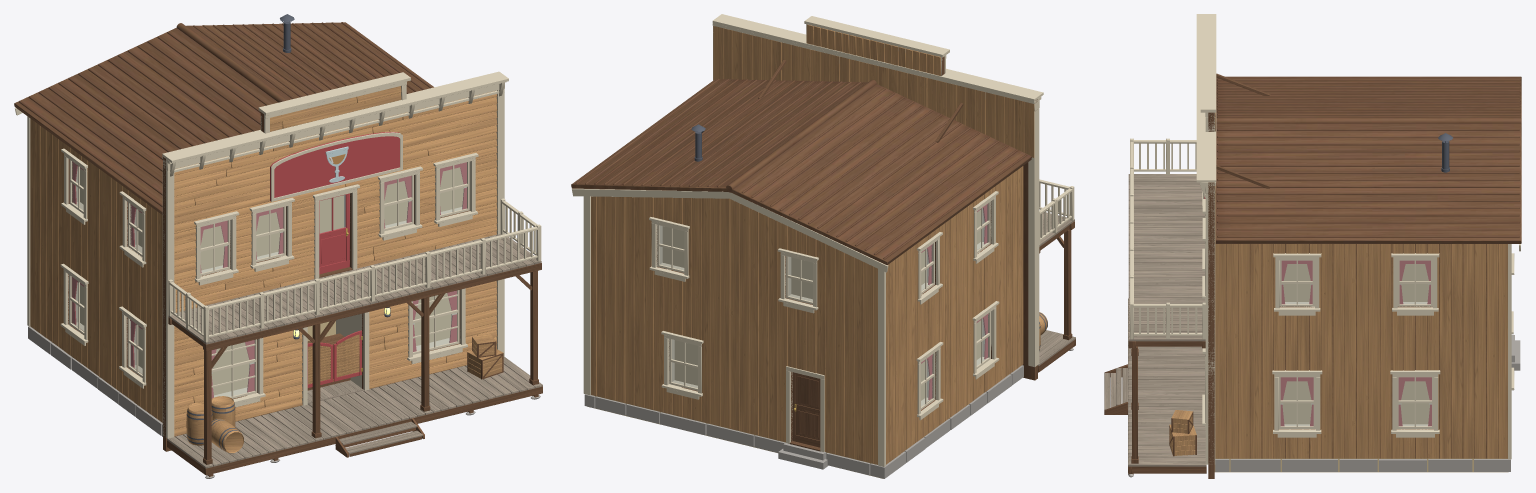
Rendered from saloon.glb.
The picture shows the model from 3 angles, left to right: view 1: azimuth 30°, elevation 25°; view 2: azimuth 150°, elevation 25°; view 3: azimuth 270°, elevation 25°; orthographic projection. The views are drawn at different scales.
Parts seen in each view (by area): view 1: saloon_boards, saloon_trim, saloon_body, saloon_glass; view 2: saloon_boards, saloon_body, saloon_trim, saloon_glass; view 3: saloon_boards, saloon_body, saloon_trim, saloon_glass.
Part boxes in pixels (box(x1,y1,x2,y2)): saloon_boards: box(30, 86, 542, 476); saloon_trim: box(15, 14, 540, 478); saloon_body: box(14, 22, 469, 451); saloon_glass: box(72, 162, 466, 398); saloon_boards: box(591, 24, 1075, 464); saloon_body: box(571, 56, 1037, 478); saloon_trim: box(572, 14, 1073, 478); saloon_glass: box(660, 204, 988, 406); saloon_boards: box(1104, 73, 1507, 474); saloon_body: box(1208, 76, 1521, 478); saloon_trim: box(1128, 14, 1520, 477); saloon_glass: box(1281, 261, 1431, 425).
Size of the model in its own units: 10 by 9.02 by 10.6.
21 materials, 7 textured.
